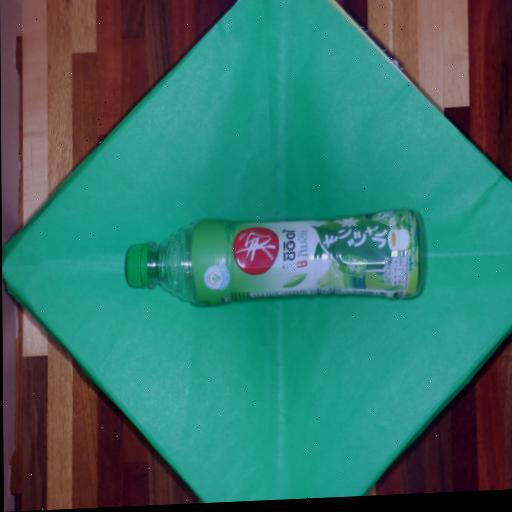bottle: (116, 189, 447, 317)
